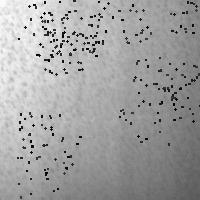pitted_surface: (1, 1, 199, 197), (19, 112, 79, 172), (33, 1, 93, 60), (41, 15, 100, 73), (133, 57, 193, 113), (119, 88, 179, 143), (18, 0, 76, 54), (17, 151, 73, 200), (92, 0, 150, 42), (158, 66, 200, 120), (170, 0, 200, 32)
